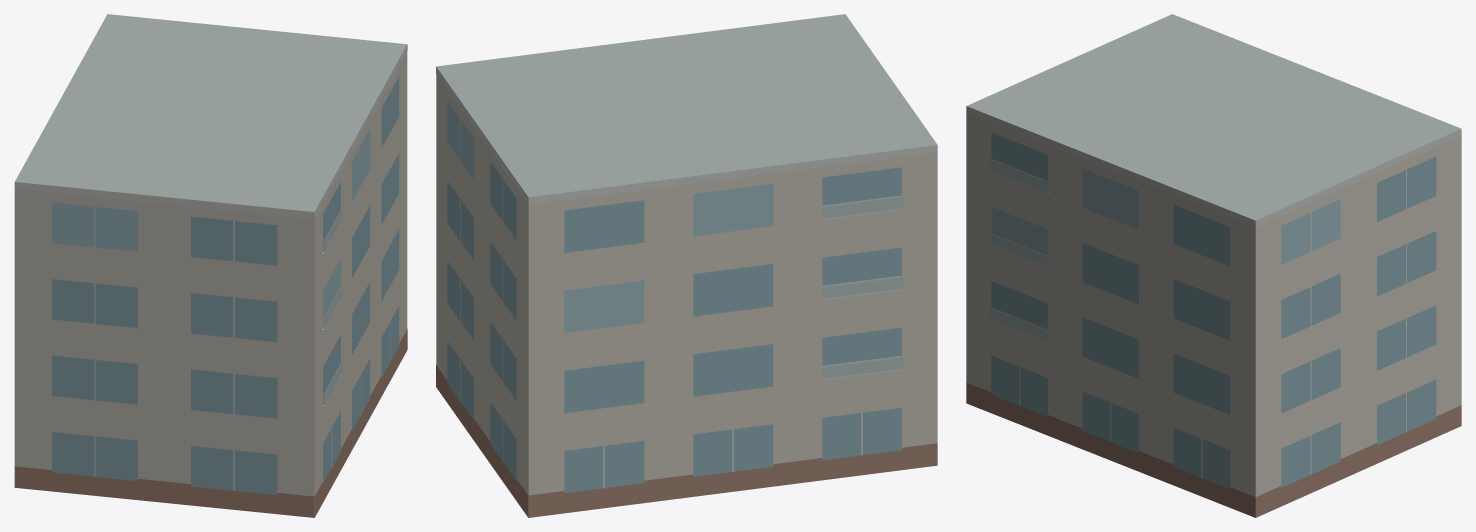
The model's file is survey-upis-32512963.glb.
3 renders of one model, left to right at view 1: azimuth 30°, elevation 25°; view 2: azimuth 150°, elevation 25°; view 3: azimuth 270°, elevation 25°, orthographic. The views are drawn at different scales.
Visible parts, largest first — view 1: survey-upis-32512963.tmp; view 2: survey-upis-32512963.tmp; view 3: survey-upis-32512963.tmp.
Boxes of the visible parts, left/top/right/bottom form: survey-upis-32512963.tmp: left=14, top=14, right=407, bottom=517; survey-upis-32512963.tmp: left=436, top=14, right=937, bottom=517; survey-upis-32512963.tmp: left=966, top=14, right=1461, bottom=517.
Bounding box in the file's own units: 15.81 × 10.6 × 16.01.
